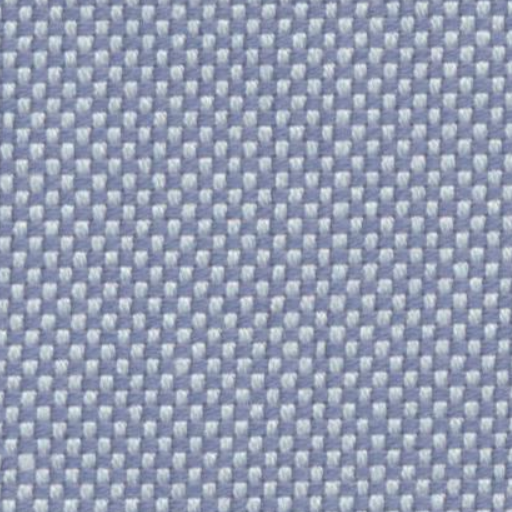TuoSha: (238, 20, 302, 511)
